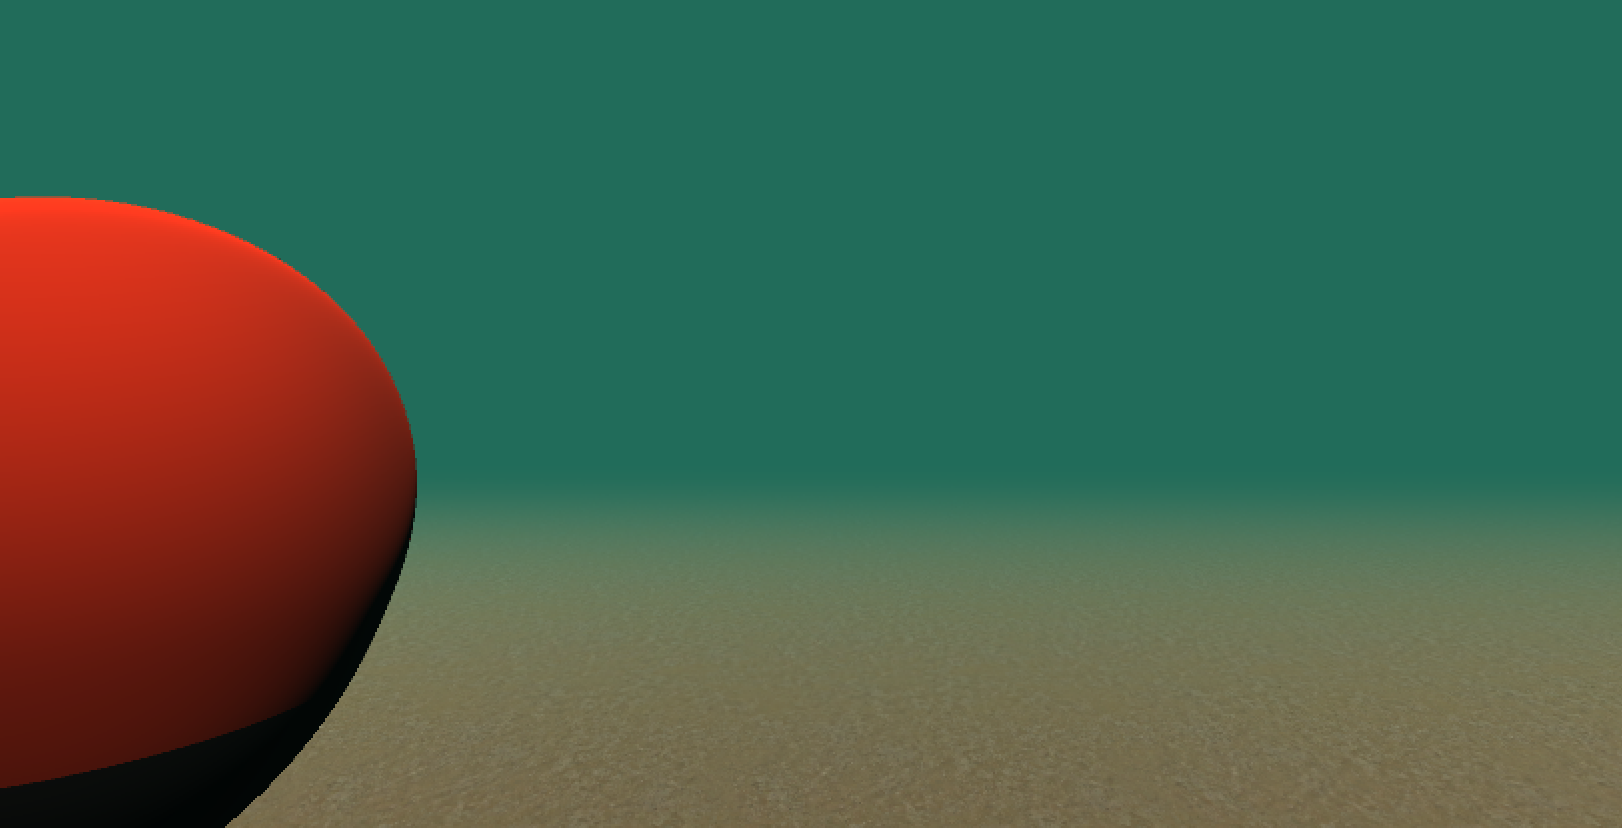orange buoy: (1, 189, 425, 828)
